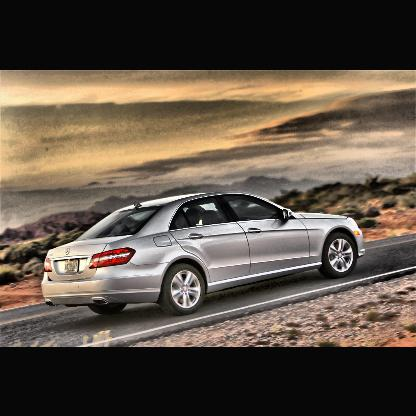Mercedes-Benz E-Class Sedan 2012: (43, 191, 368, 317)
